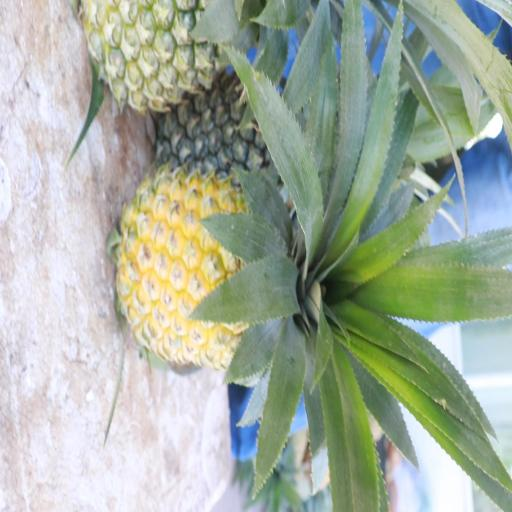Pineapple - v8 v1: (124, 166, 328, 371)
